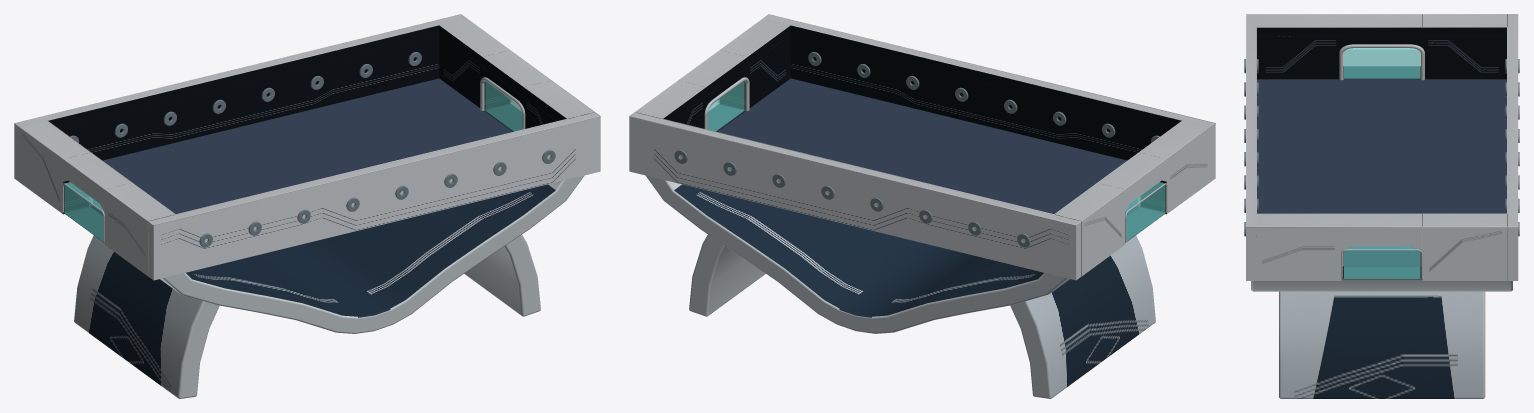
File: fuzeball_table_circuit_silver.glb
3 views of the same model, side by side, from view 1: azimuth 30°, elevation 25°; view 2: azimuth 150°, elevation 25°; view 3: azimuth 270°, elevation 25° (orthographic). The views are drawn at different scales.
Parts seen in each view (by area): view 1: table_base.001, wall_side_near.001, field.001, wall_side_far.001, wall_end_l_far.001, wall_end_r_far.001, wall_end_l_near.001, wall_end_r_near.001, goal_frame_header_l.001, goal_frame_header_r.001, silver_rim_lip_outer, goal_net_left.001 (+4 smaller); view 2: table_base.001, wall_side_far.001, field.001, wall_side_near.001, wall_end_l_near.001, wall_end_r_near.001, wall_end_l_far.001, wall_end_r_far.001, goal_frame_header_l.001, goal_frame_header_r.001, silver_rim_lip_outer, goal_net_left.001 (+4 smaller); view 3: field.001, table_base.001, wall_end_r_near.001, wall_end_r_far.001, wall_end_l_near.001, wall_end_l_far.001, wall_side_far.001, wall_side_near.001, goal_frame_header_r.001, goal_frame_header_l.001, goal_net_right.001, goal_net_left.001 (+6 smaller).
Boxes of the visible parts, bbox=[...] form: table_base.001: bbox=[74, 175, 584, 398]; wall_side_near.001: bbox=[148, 112, 600, 280]; field.001: bbox=[92, 78, 511, 213]; wall_side_far.001: bbox=[14, 14, 466, 182]; wall_end_l_far.001: bbox=[20, 121, 90, 214]; wall_end_r_far.001: bbox=[439, 18, 509, 109]; wall_end_l_near.001: bbox=[104, 183, 174, 275]; wall_end_r_near.001: bbox=[524, 80, 594, 128]; goal_frame_header_l.001: bbox=[63, 152, 131, 211]; goal_frame_header_r.001: bbox=[482, 50, 550, 107]; silver_rim_lip_outer: bbox=[14, 14, 600, 225]; goal_net_left.001: bbox=[64, 182, 104, 241]; table_base.001: bbox=[645, 175, 1155, 398]; wall_side_far.001: bbox=[629, 112, 1081, 280]; field.001: bbox=[718, 78, 1137, 213]; wall_side_near.001: bbox=[764, 14, 1215, 182]; wall_end_l_near.001: bbox=[1139, 121, 1209, 214]; wall_end_r_near.001: bbox=[720, 18, 790, 109]; wall_end_l_far.001: bbox=[1055, 183, 1125, 275]; wall_end_r_far.001: bbox=[635, 80, 705, 128]; goal_frame_header_l.001: bbox=[1098, 152, 1166, 211]; goal_frame_header_r.001: bbox=[679, 50, 747, 107]; silver_rim_lip_outer: bbox=[629, 14, 1215, 225]; goal_net_left.001: bbox=[1125, 182, 1165, 241]; field.001: bbox=[1257, 79, 1506, 265]; table_base.001: bbox=[1251, 279, 1512, 398]; wall_end_r_near.001: bbox=[1257, 214, 1341, 280]; wall_end_r_far.001: bbox=[1422, 214, 1506, 280]; wall_end_l_near.001: bbox=[1257, 14, 1341, 79]; wall_end_l_far.001: bbox=[1422, 14, 1506, 79]; wall_side_far.001: bbox=[1507, 14, 1518, 280]; wall_side_near.001: bbox=[1246, 14, 1256, 280]; goal_frame_header_r.001: bbox=[1341, 214, 1422, 250]; goal_frame_header_l.001: bbox=[1341, 14, 1422, 47]; goal_net_right.001: bbox=[1344, 246, 1420, 278]; goal_net_left.001: bbox=[1344, 48, 1420, 78].
Size of the model in its own units: 138 by 58.32 by 74.9.
Materials: 14 (7 with a texture image).
